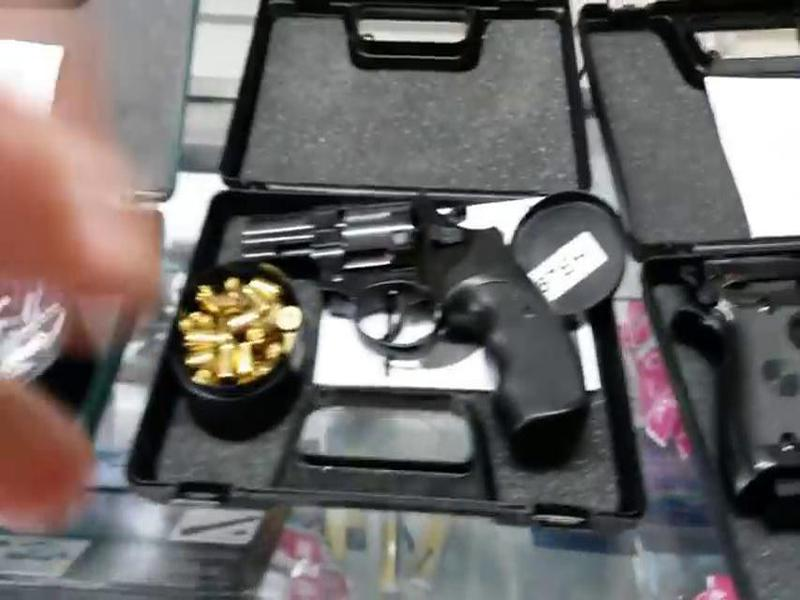Revolver: (227, 190, 625, 489)
